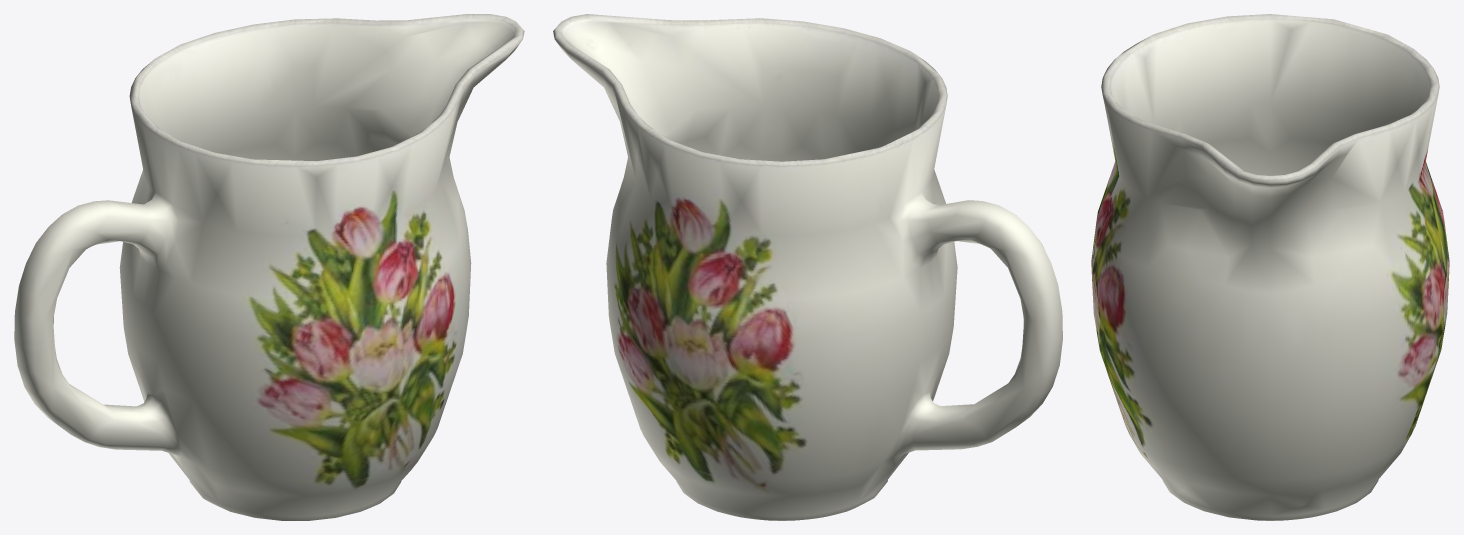
File: jug.glb
The picture shows the model from 3 angles, left to right: view 1: azimuth 30°, elevation 25°; view 2: azimuth 150°, elevation 25°; view 3: azimuth 270°, elevation 25°; orthographic projection. The views are drawn at different scales.
Visible parts, largest first — view 1: jug_01; view 2: jug_01; view 3: jug_01.
Part boxes in pixels (left/top/right/bottom): jug_01: left=14, top=14, right=524, bottom=520; jug_01: left=553, top=14, right=1062, bottom=520; jug_01: left=1091, top=14, right=1449, bottom=520.
Size of the model in its own units: 0.275 by 0.2113 by 0.1675.
Materials: 1 (1 with a texture image).
